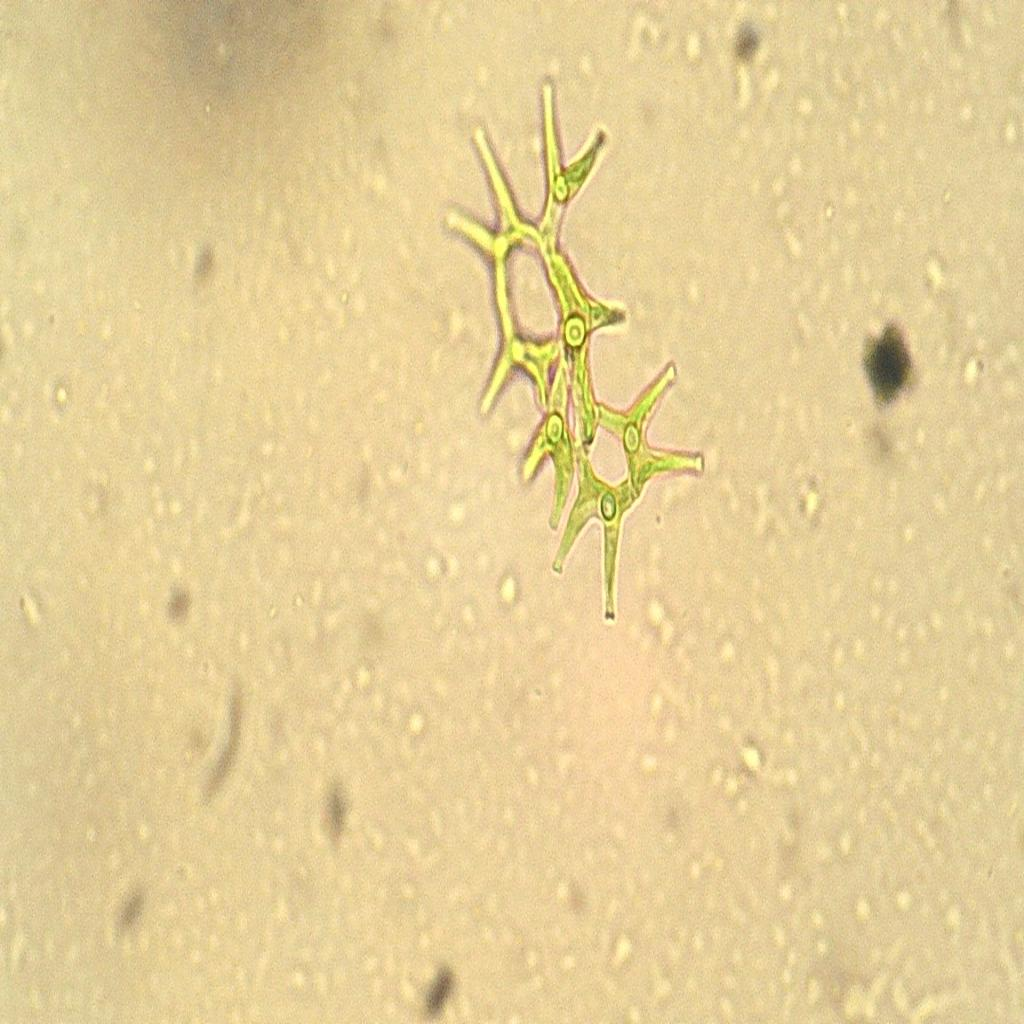Pediastrum_CFI: (434, 72, 720, 638)
